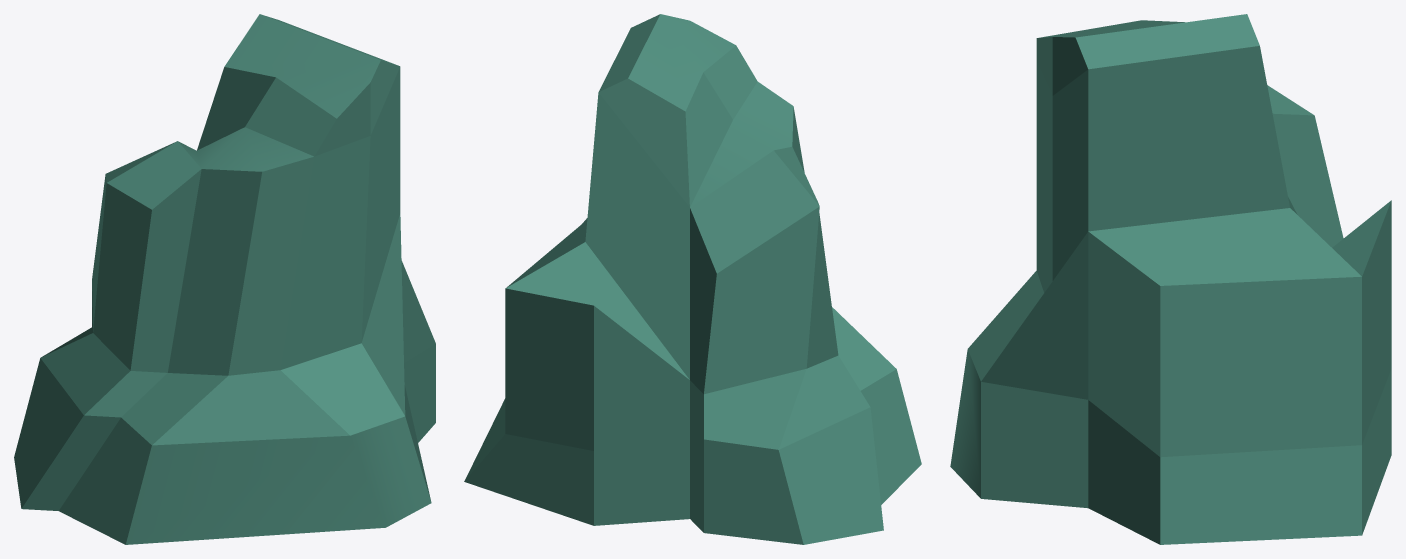
File: Rock.fbx
3 views of the same model, side by side, from view 1: azimuth 30°, elevation 25°; view 2: azimuth 150°, elevation 25°; view 3: azimuth 270°, elevation 25° (orthographic). The views are drawn at different scales.
Visible parts, largest first — view 1: Rock2; view 2: Rock2; view 3: Rock2.
Boxes of the visible parts, x1,y1,x2,y2 form: Rock2: (14,14,435,544); Rock2: (464,14,921,544); Rock2: (950,14,1391,544).
Size of the model in its own units: 5.27 by 5.45 by 4.67.
